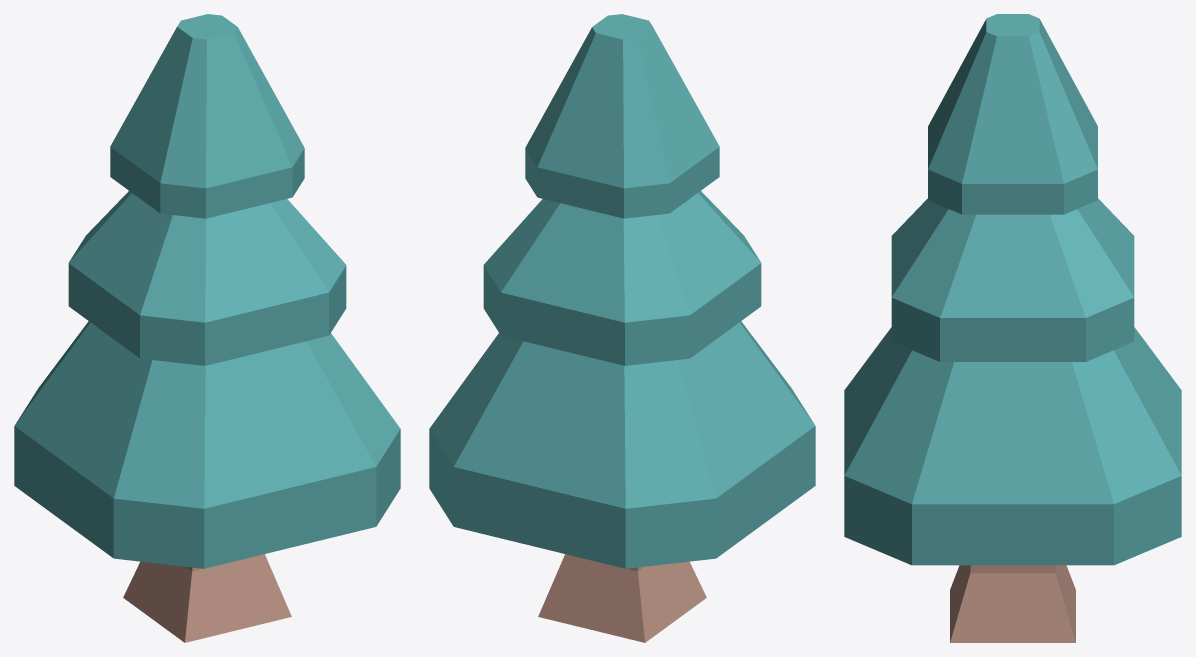
File: tree_pineSmallA.glb
The picture shows the model from 3 angles, left to right: view 1: azimuth 30°, elevation 25°; view 2: azimuth 150°, elevation 25°; view 3: azimuth 270°, elevation 25°; orthographic projection.
Visible parts, largest first — view 1: tree_pineSmallA; view 2: tree_pineSmallA; view 3: tree_pineSmallA.
Boxes of the visible parts, x1=… form: tree_pineSmallA: x1=14, y1=14, x2=400, y2=642; tree_pineSmallA: x1=429, y1=14, x2=815, y2=642; tree_pineSmallA: x1=844, y1=14, x2=1181, y2=642.
Size of the model in its own units: 0.5 by 0.9672 by 0.5.
